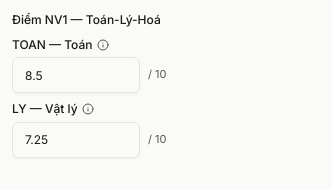
ChoiceScoreCard › validates above max with inline error message + aria-invalid
Replace the text in the number field with test id "score-input-11" with "11" at (76, 75), box x1=12 y1=57 x2=140 y2=93
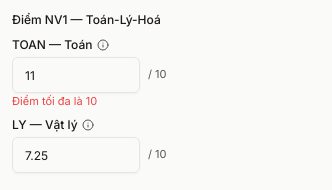
Check: the message with test id "score-error-11" reads "Điểm tối đa là 10", box x1=12 y1=94 x2=97 y2=108
